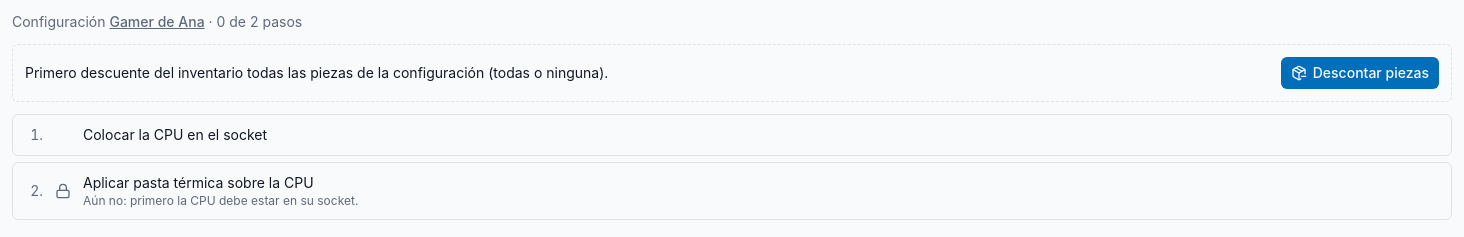
Test: AssemblyChecklistPanel › consumes the parts and then completes steps in order
The width and height of the screenshot is (1464, 237).
Expected: the text "Aún no: primero la CPU debe estar en su socket." is shown, [83,193,358,208]
Expected: the text "Configuración Gamer de Ana · 0 de 2 pasos" is shown, [12,13,302,30]
Click the button "Descontar piezas": (1360, 73) [1281,57,1439,89]
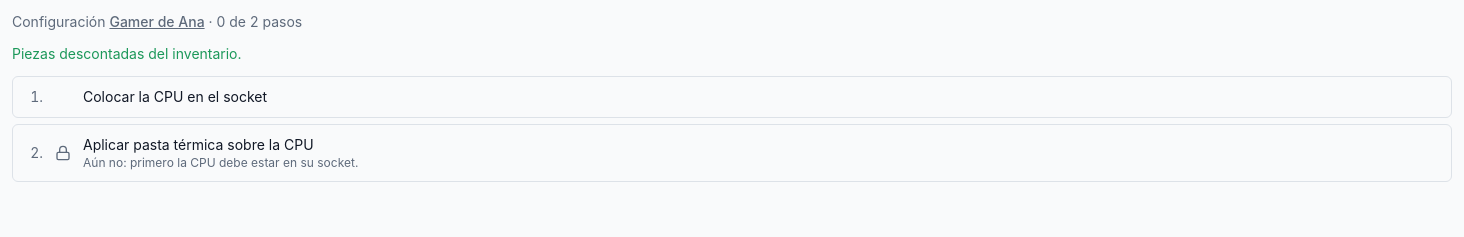
Result: the text "Piezas descontadas del inventario." is shown at [12,45,242,62]
Click the button "1. Colocar la CPU en el socket": (175, 96) [12,76,1452,118]
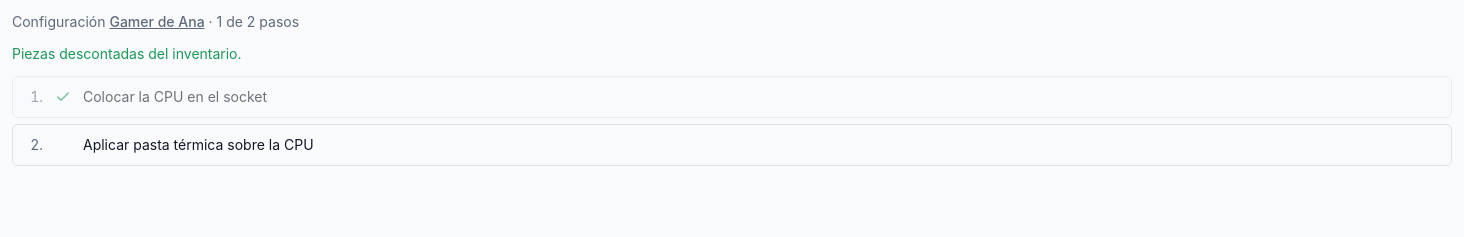
Result: the text "Configuración Gamer de Ana · 1 de 2 pasos" is shown at [12,13,299,30]
Result: the text "Aún no:" is gone
